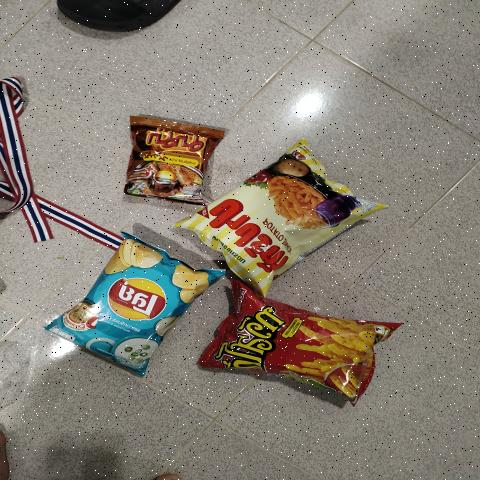lay_blue: (104, 257, 170, 334)
mama: (149, 125, 200, 196)
paprika: (197, 163, 356, 251)
twisco: (218, 317, 385, 367)
